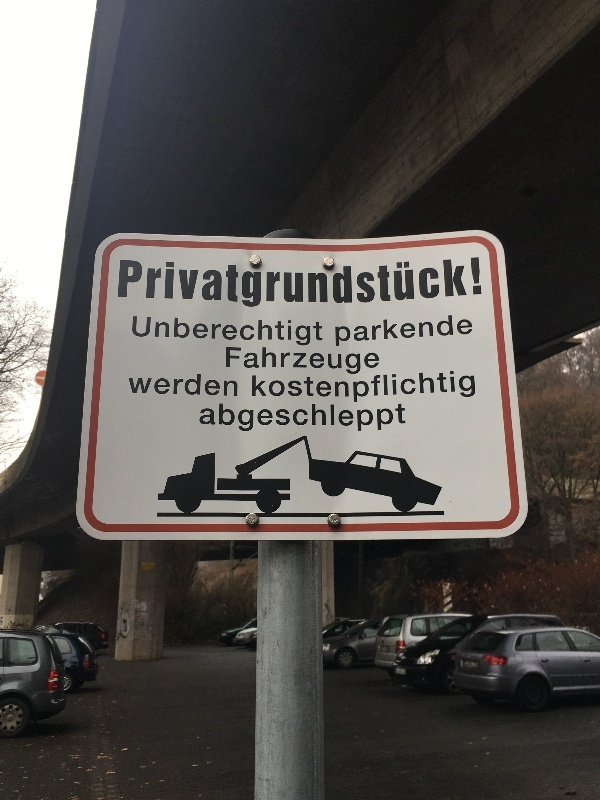text: (129, 254, 144, 311), (145, 254, 160, 311), (161, 254, 176, 311), (177, 254, 192, 311), (193, 254, 208, 311), (209, 254, 224, 311), (225, 254, 240, 311), (241, 254, 256, 311), (257, 254, 272, 311), (273, 254, 288, 311), (289, 254, 304, 311), (305, 254, 320, 311), (321, 254, 336, 311), (337, 254, 352, 311), (353, 254, 368, 311), (369, 254, 384, 311), (385, 254, 400, 311), (401, 254, 416, 311), (417, 254, 432, 311), (433, 254, 448, 311), (449, 254, 464, 311), (465, 254, 480, 311), (257, 368, 272, 407), (273, 368, 288, 407), (289, 368, 304, 407), (305, 368, 320, 407), (321, 368, 336, 407), (337, 368, 352, 407), (353, 368, 368, 407), (369, 368, 384, 407), (385, 368, 400, 407), (401, 368, 416, 407), (417, 368, 432, 407), (433, 368, 448, 407), (449, 368, 464, 407), (337, 312, 352, 349), (353, 312, 368, 349), (369, 312, 384, 349), (385, 312, 400, 349), (401, 312, 416, 349), (417, 312, 432, 349), (433, 312, 448, 349), (449, 312, 464, 349), (119, 254, 128, 311), (465, 368, 478, 407), (225, 345, 240, 378), (241, 345, 256, 378), (257, 345, 272, 378), (273, 345, 288, 378), (289, 345, 304, 378), (305, 345, 320, 378), (321, 345, 336, 378), (337, 345, 352, 378), (353, 345, 368, 378), (161, 316, 176, 348), (177, 316, 192, 348), (193, 316, 208, 348), (209, 316, 224, 348), (225, 316, 240, 348), (241, 316, 256, 348), (257, 316, 272, 348), (273, 316, 288, 348), (289, 316, 304, 348), (305, 316, 320, 348), (209, 403, 224, 434), (225, 403, 240, 434), (241, 403, 256, 434), (257, 403, 272, 434), (273, 403, 288, 434), (289, 403, 304, 434), (305, 403, 320, 434), (321, 403, 336, 434), (337, 403, 352, 434), (353, 403, 368, 434), (369, 403, 384, 434), (385, 403, 400, 434), (369, 345, 382, 378), (161, 373, 176, 399), (177, 373, 192, 399), (193, 373, 208, 399), (209, 373, 224, 399), (465, 312, 475, 349), (225, 373, 239, 399), (150, 316, 160, 348), (481, 254, 486, 311), (150, 373, 160, 399), (200, 403, 208, 434), (251, 368, 256, 407), (401, 403, 407, 434), (321, 316, 324, 348), (334, 312, 336, 349)
